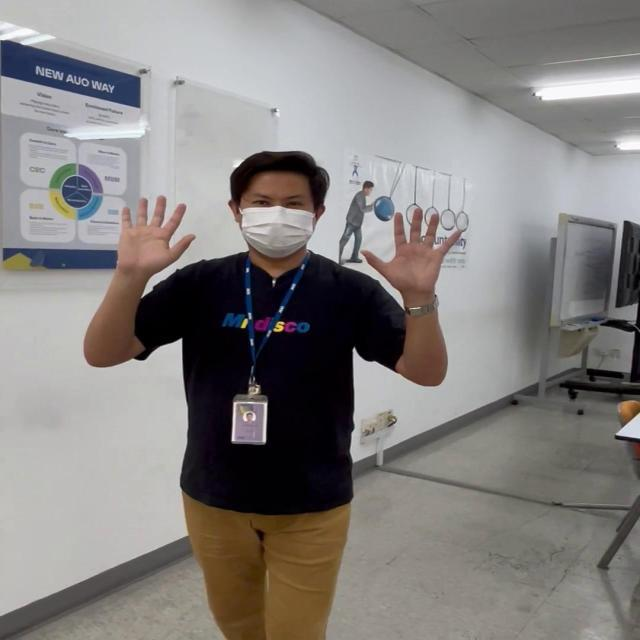bare_hand: (358, 205, 459, 294), (110, 190, 197, 269)
